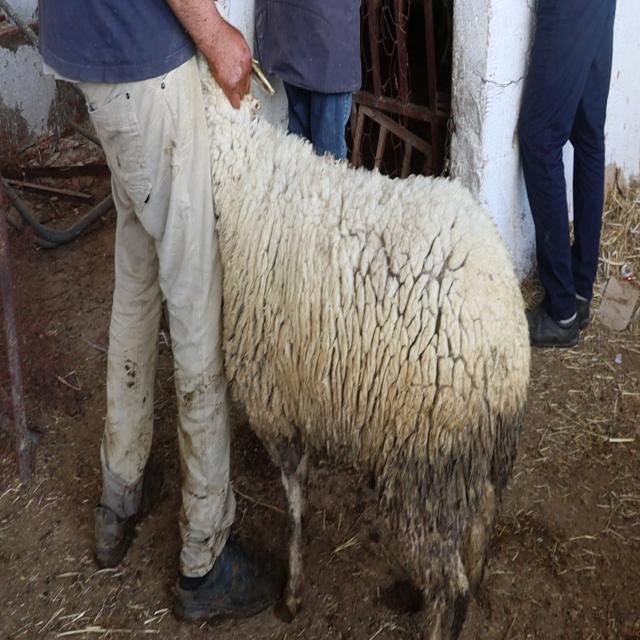Score_4: (200, 60, 531, 639)
